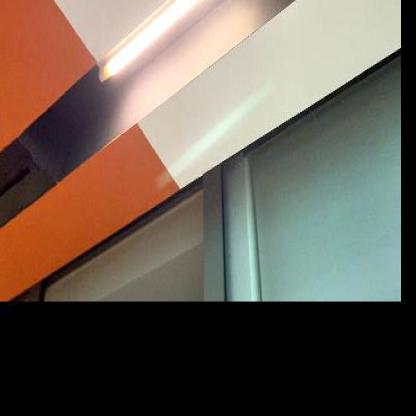light_on: (94, 0, 262, 116)
